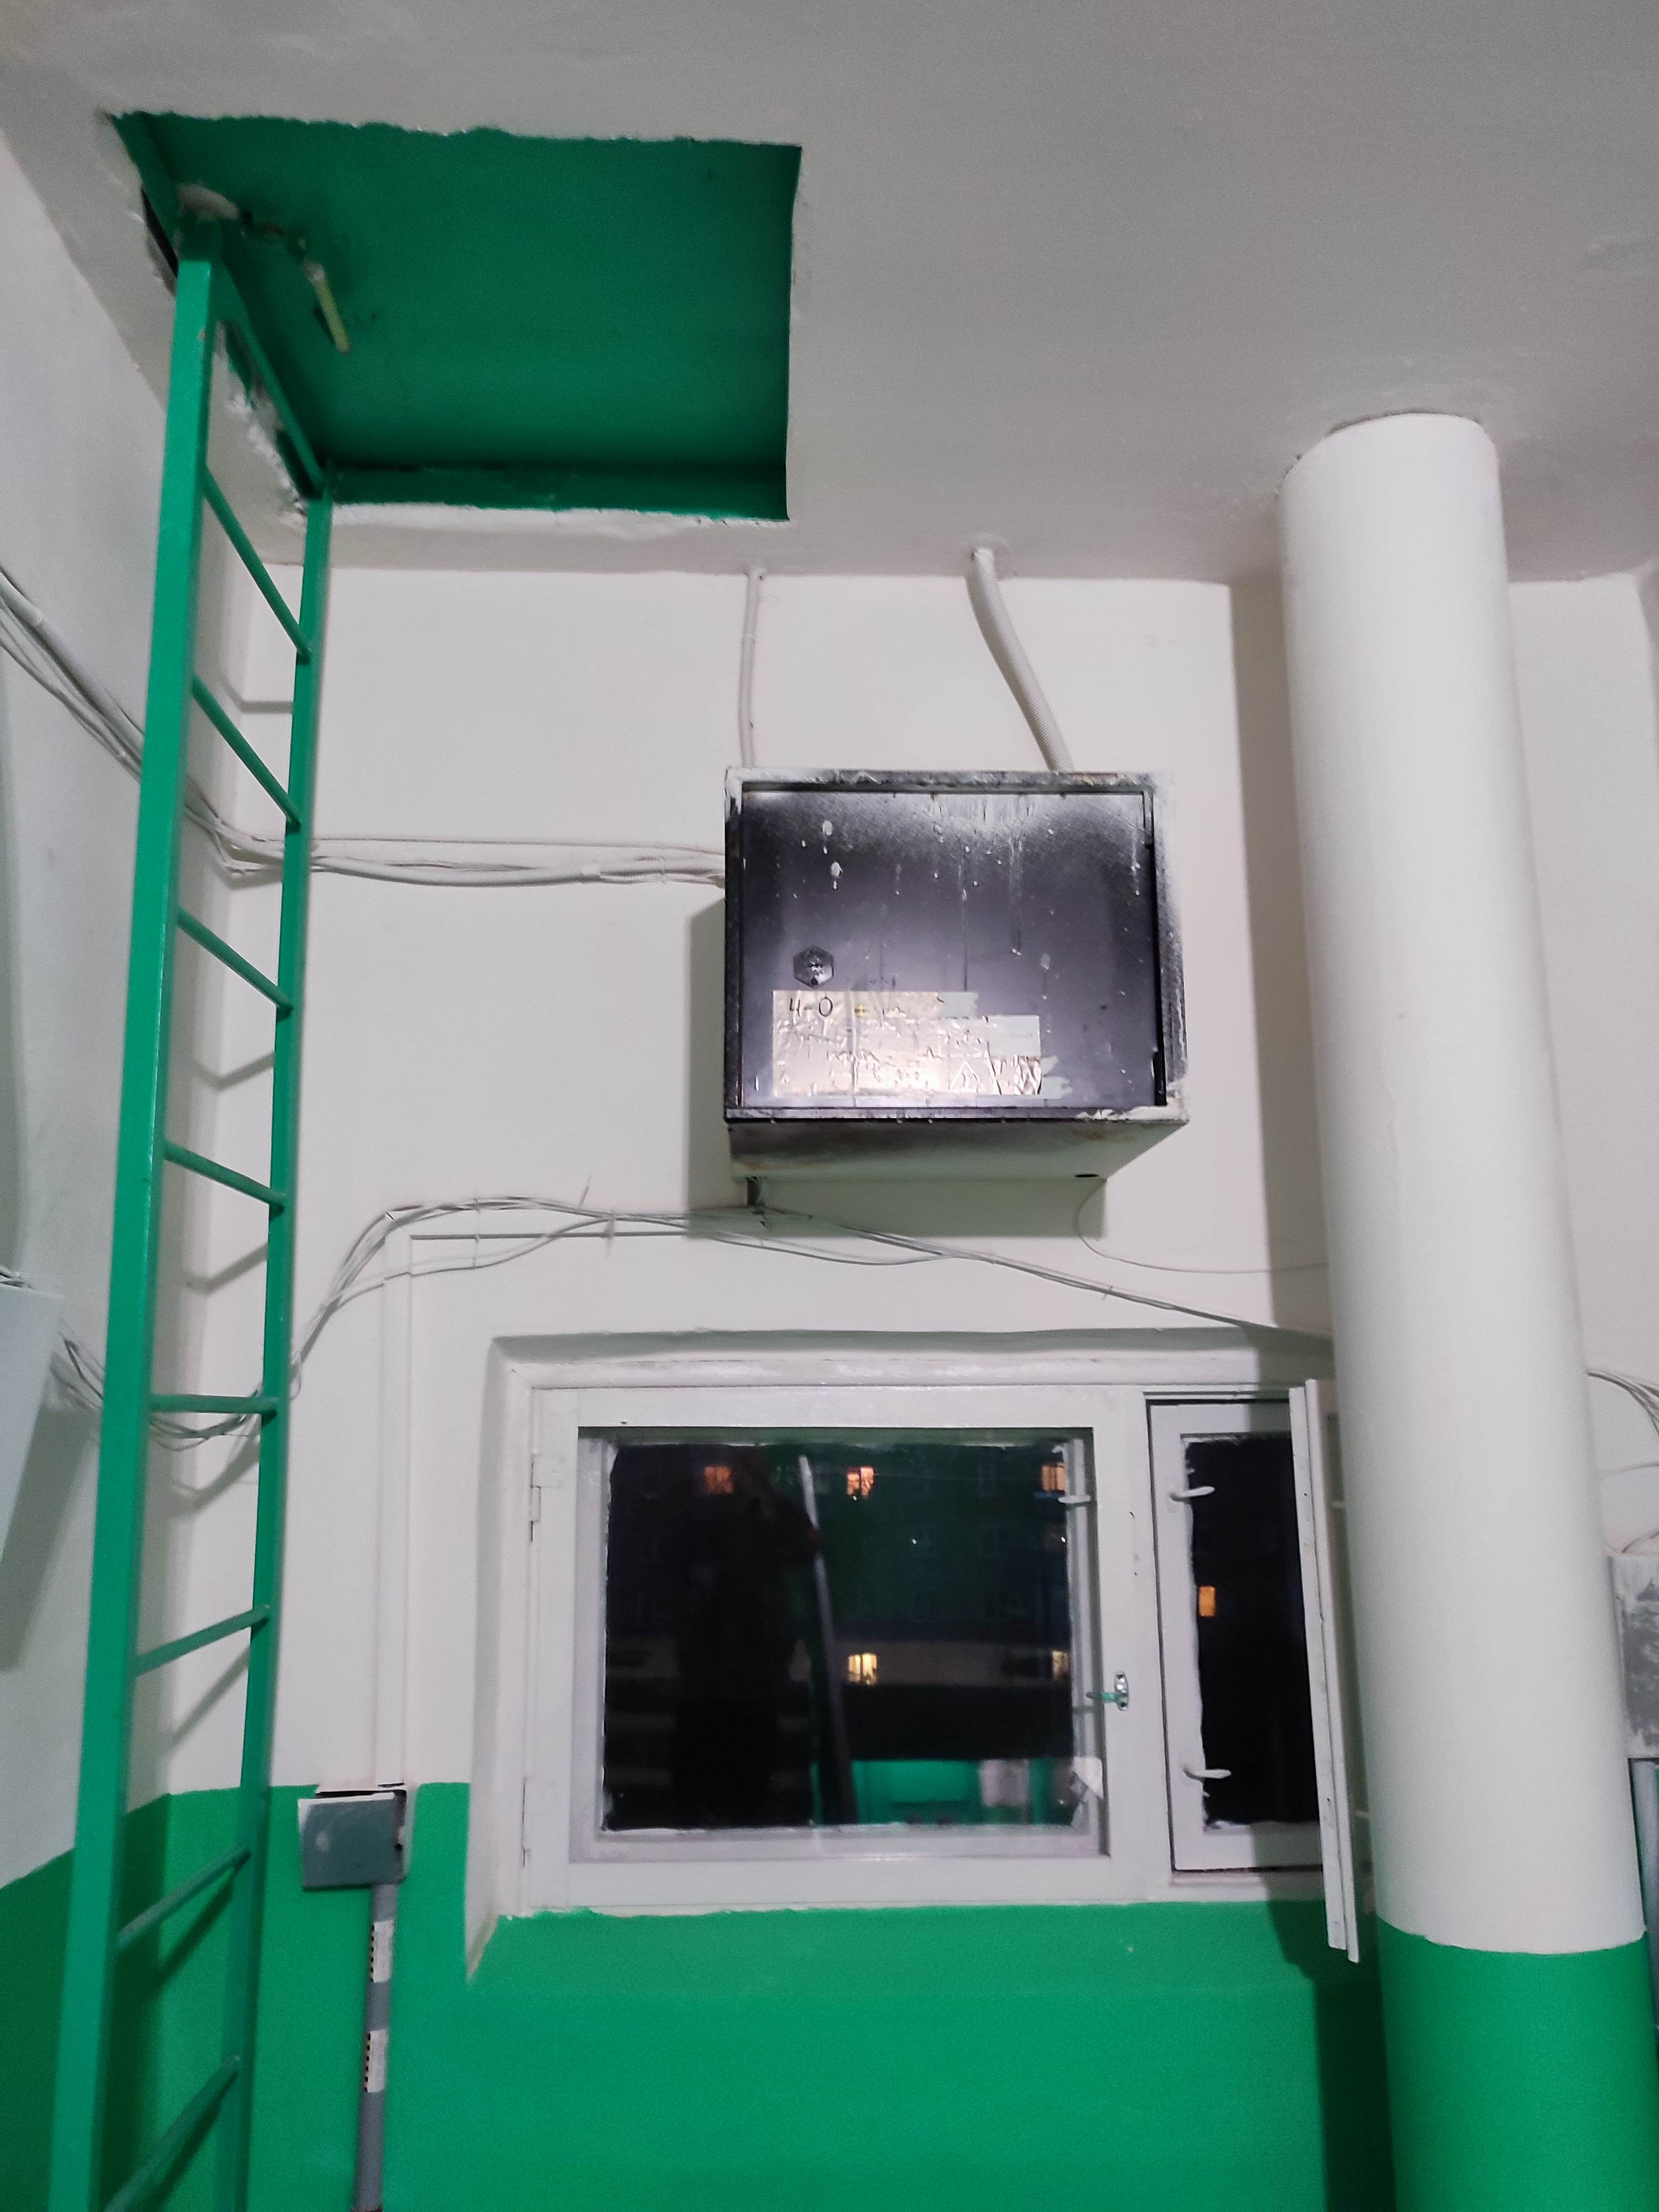shta-9m: (716, 759, 1194, 1190)
